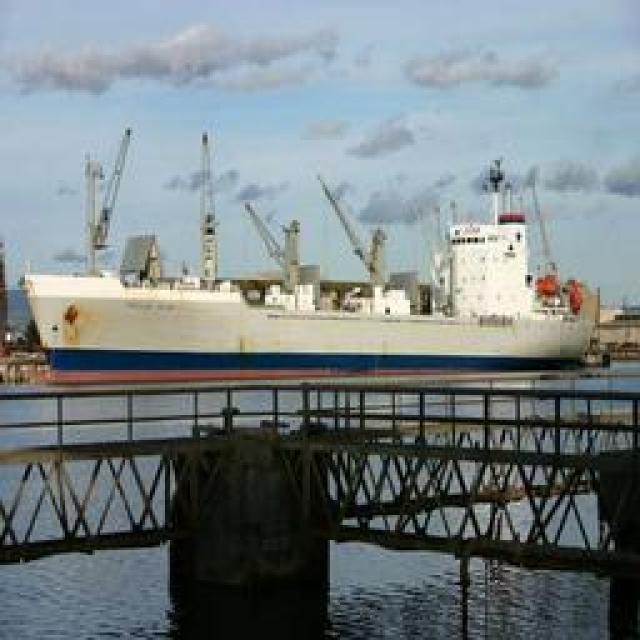ship2: (21, 159, 599, 386)
